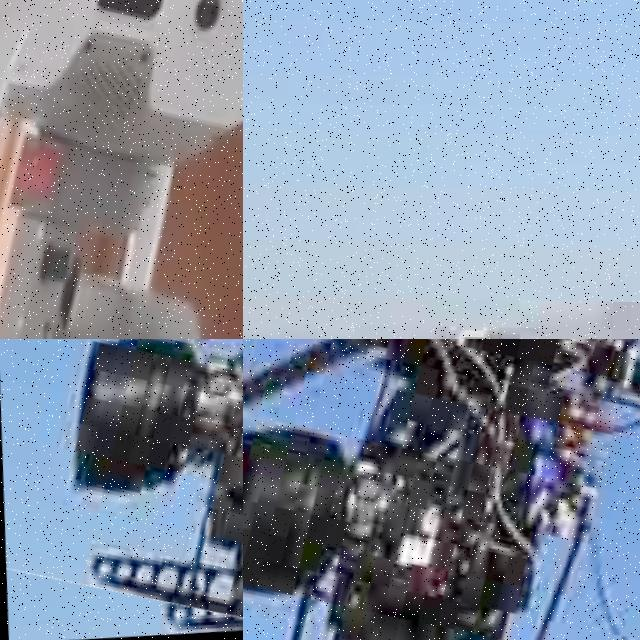drone: (243, 339, 640, 640), (0, 0, 243, 339), (0, 339, 243, 640)
